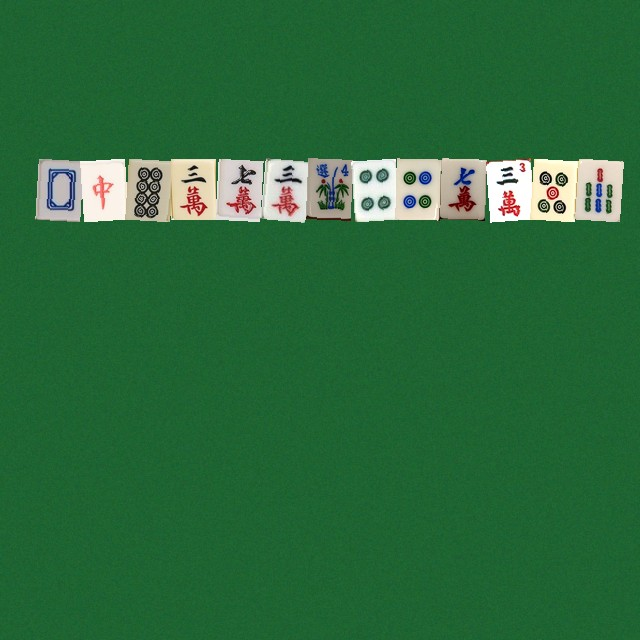tile: (35, 158, 80, 219), (80, 158, 125, 219), (125, 158, 170, 219), (170, 158, 215, 219), (215, 158, 260, 219), (260, 158, 305, 219), (305, 158, 350, 219), (350, 158, 395, 219), (395, 158, 440, 219), (440, 158, 485, 219), (485, 158, 530, 219), (530, 158, 575, 219), (575, 158, 620, 219)
